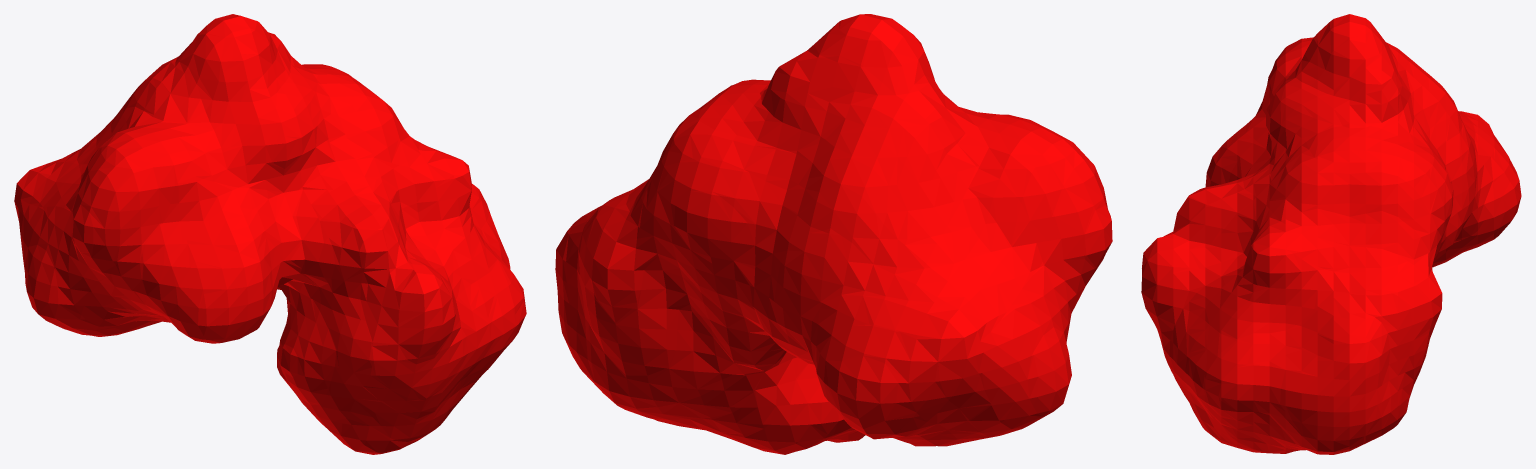
Rendered from nagK_coarse.dae.
3 views of the same model, side by side, from view 1: azimuth 30°, elevation 25°; view 2: azimuth 150°, elevation 25°; view 3: azimuth 270°, elevation 25° (orthographic). The views are drawn at different scales.
Visible parts, largest first — view 1: nagK; view 2: nagK; view 3: nagK.
Part boxes in pixels (x1,y1,x2,y2): nagK: (14, 14, 526, 454); nagK: (555, 14, 1112, 454); nagK: (1141, 14, 1521, 454).
Bounding box in the file's own units: 66.42 × 59.53 × 53.65.
